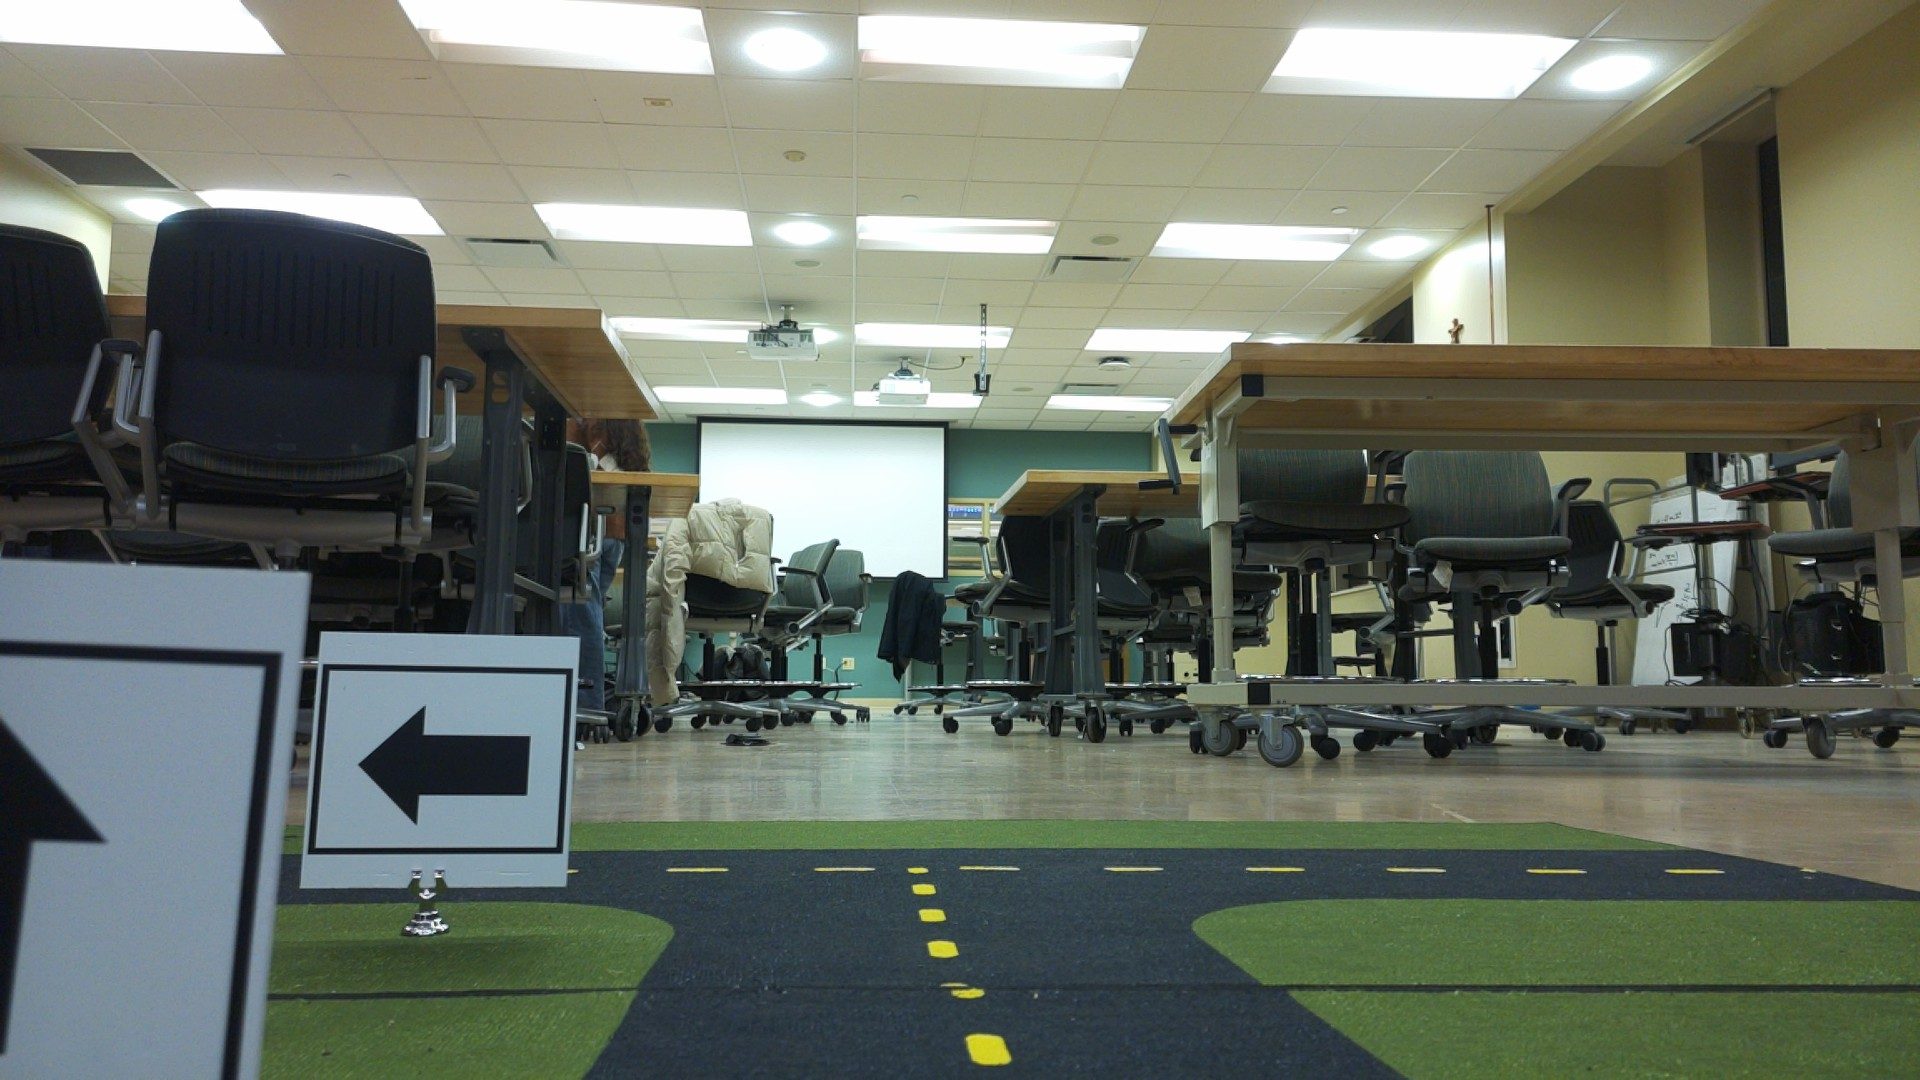turnleft: (313, 637, 566, 881)
